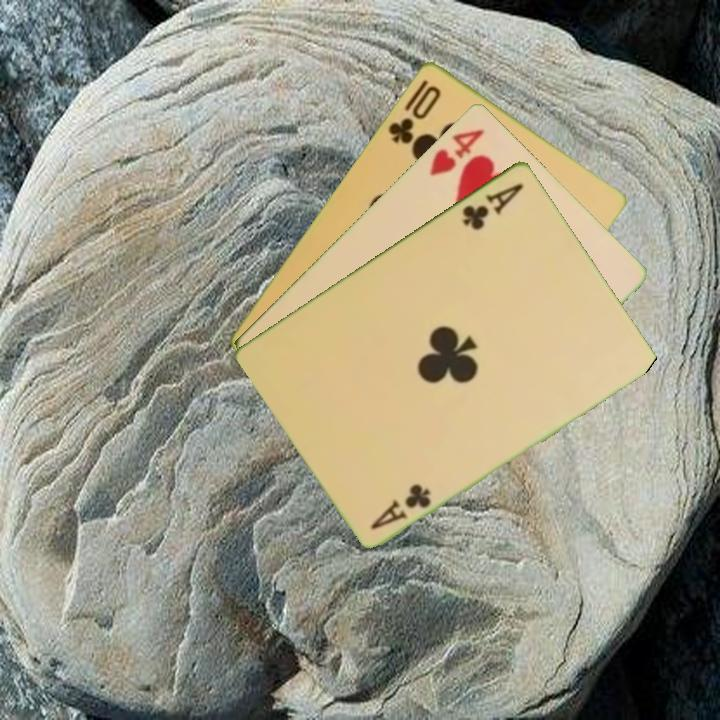10c: (384, 81, 444, 147)
4h: (425, 124, 487, 179)
Ac: (458, 179, 527, 233), (366, 479, 435, 532)
